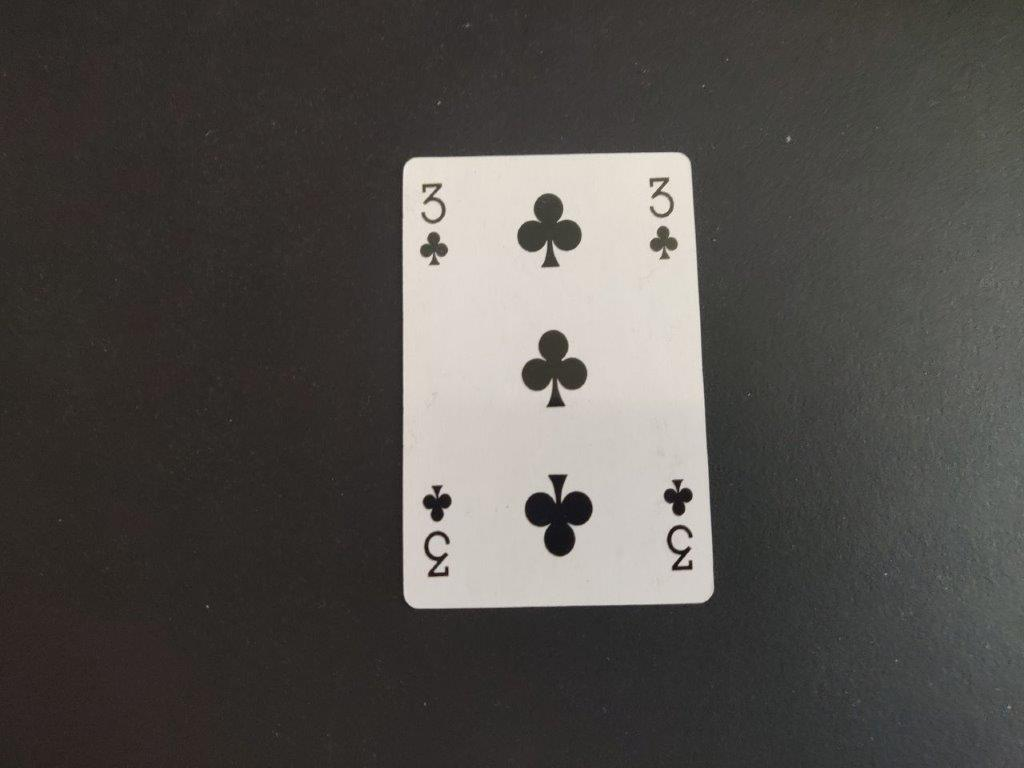3C: (416, 177, 458, 276), (641, 173, 682, 267)
